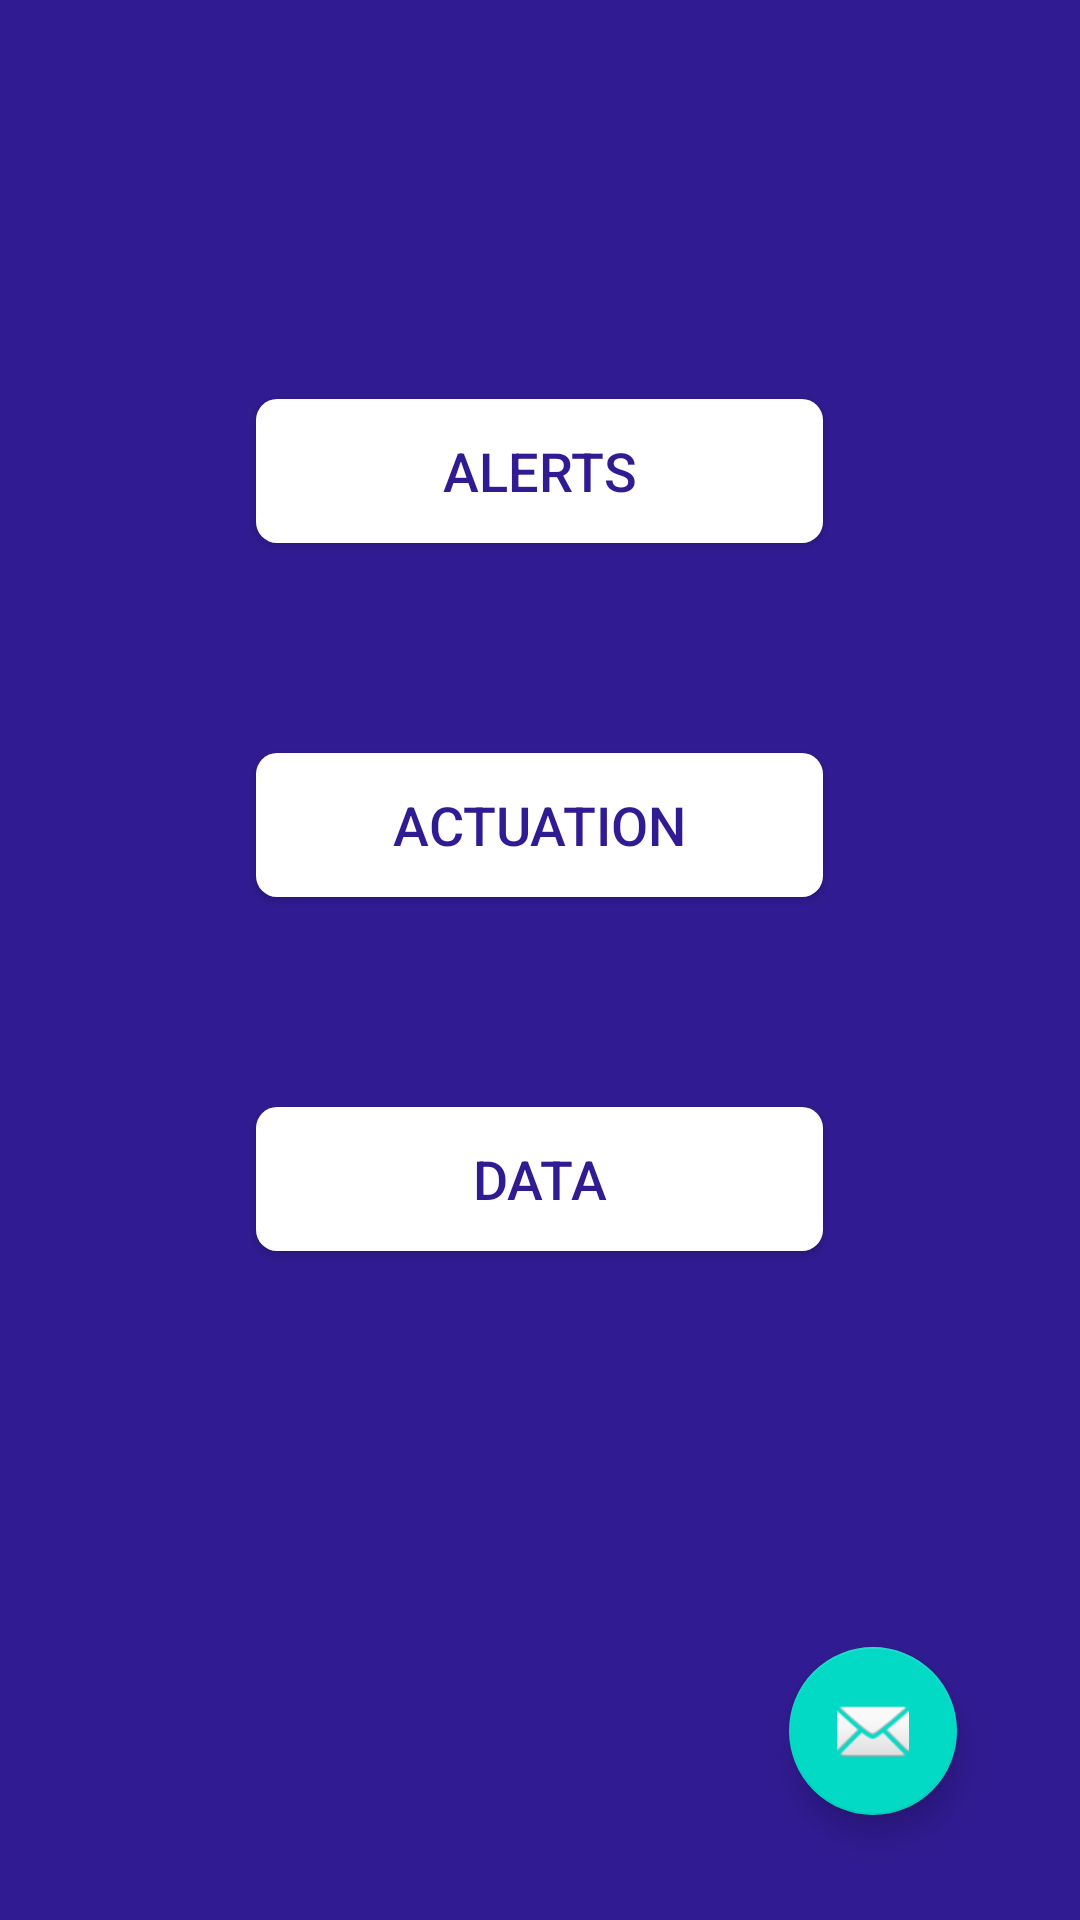

Icons on this 1080x1920 Android screen, each with its box as (x1, y1, x2, y2):
email: (789, 1647, 957, 1815)
